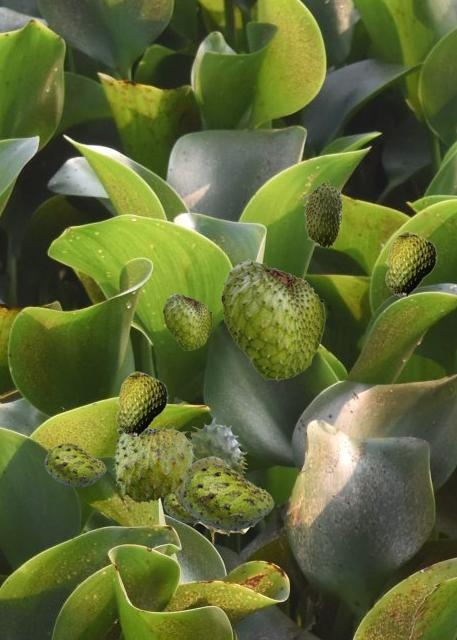guyabano: (221, 258, 324, 379), (188, 418, 255, 543), (112, 425, 196, 502), (180, 464, 273, 530), (384, 231, 436, 297), (115, 371, 167, 437), (173, 456, 229, 516), (163, 292, 211, 349), (303, 179, 343, 247), (44, 443, 105, 486), (163, 494, 198, 522)
